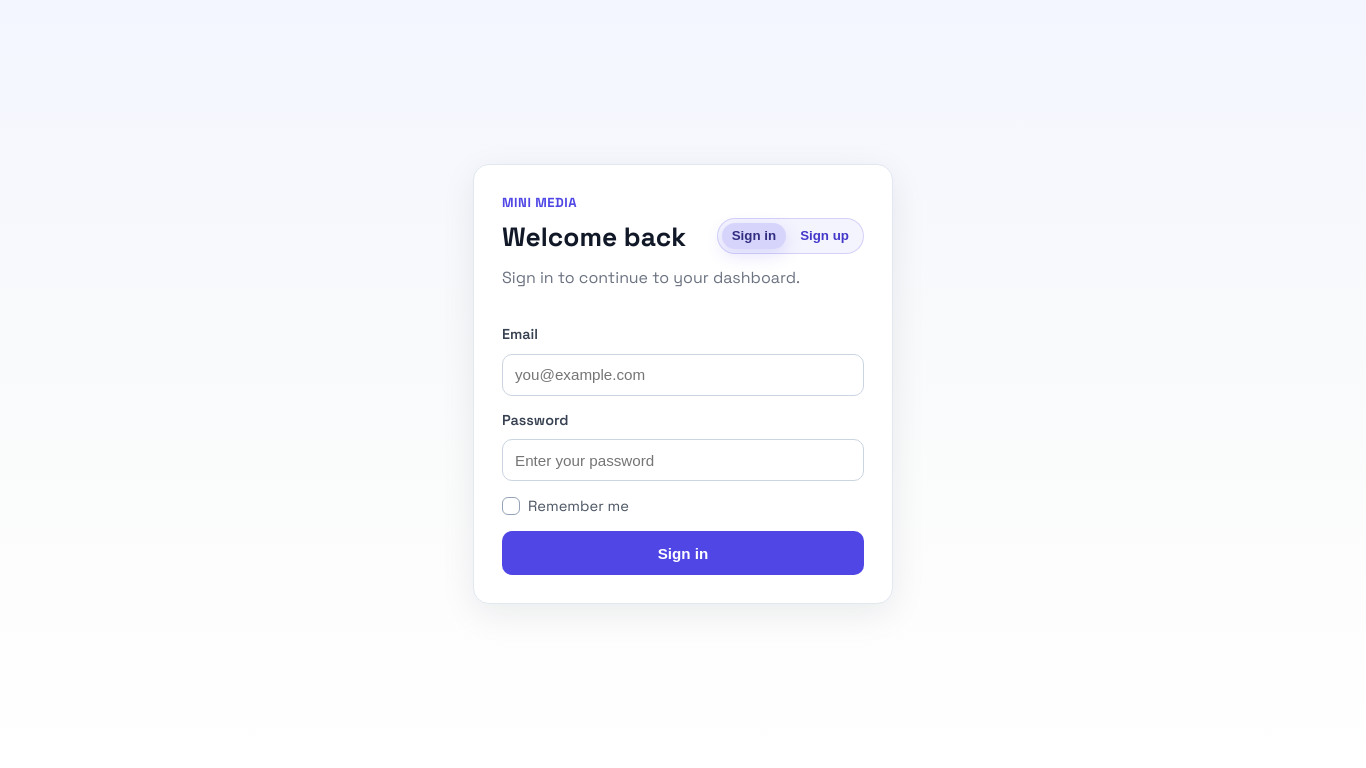
Test: App › registers and displays the returned user
This screenshot has width=1366, height=768.
Click the button "Sign up". click: (825,236)
box: [790,223,859,249]
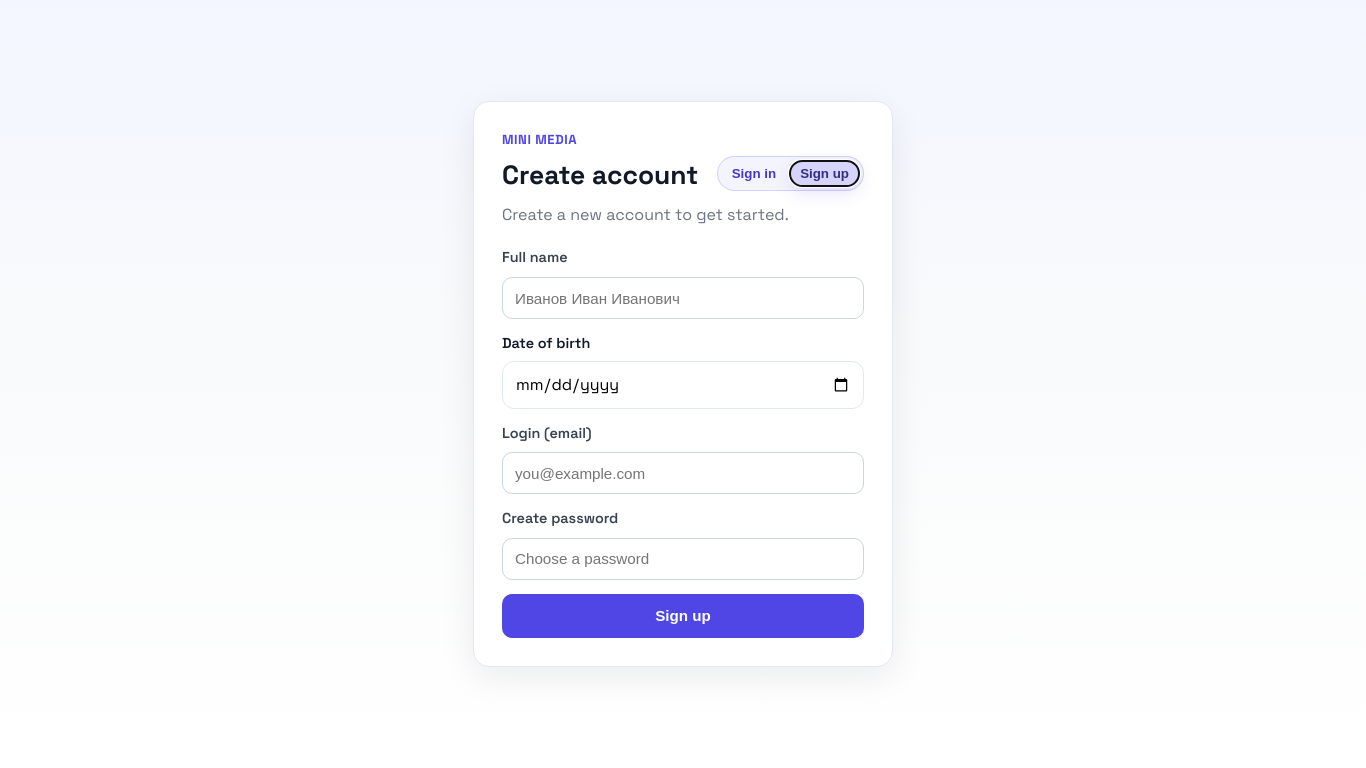
Type "Ivanov Ivan" into the field labelled "Full name". click: (683,298)
box: [502,277,864,319]
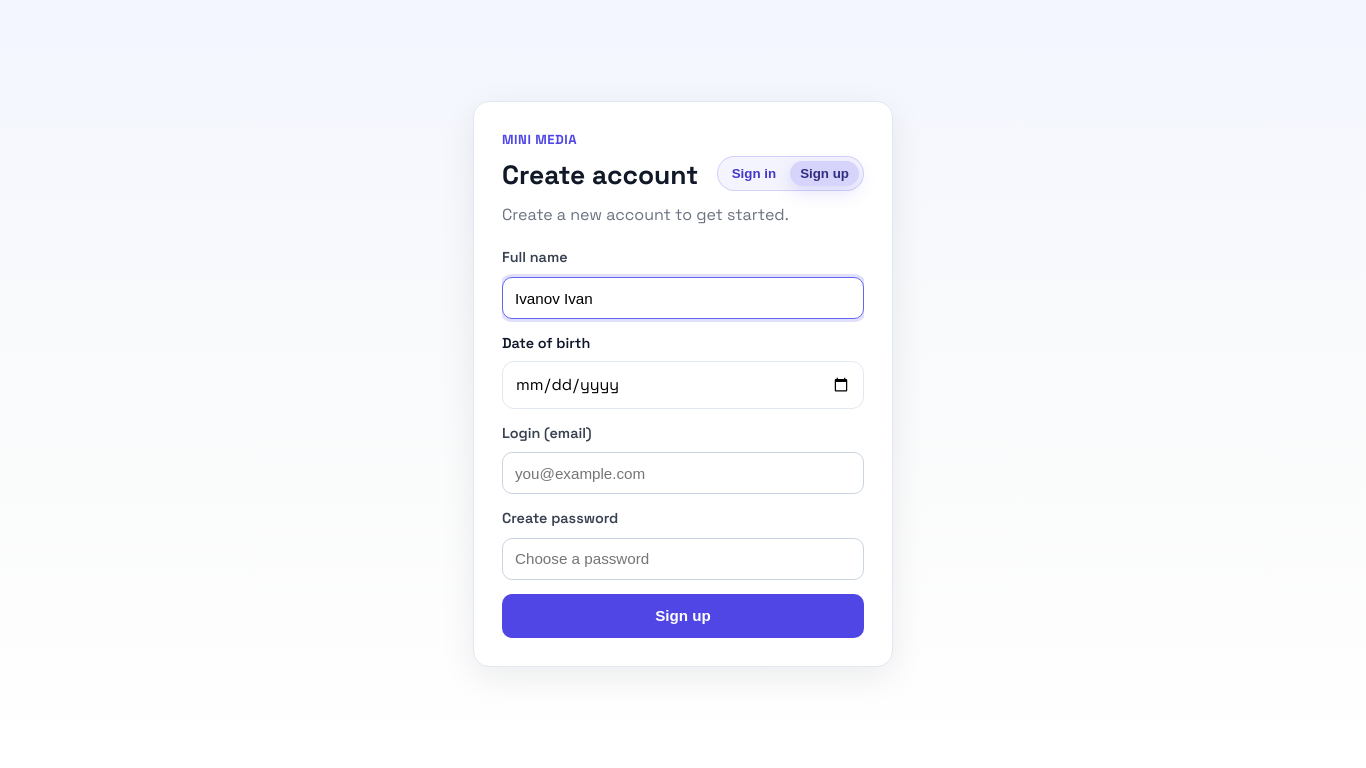
Type "2000-01-01" into the date field labelled "Date of birth". click: (683,385)
box: [502,361,864,409]
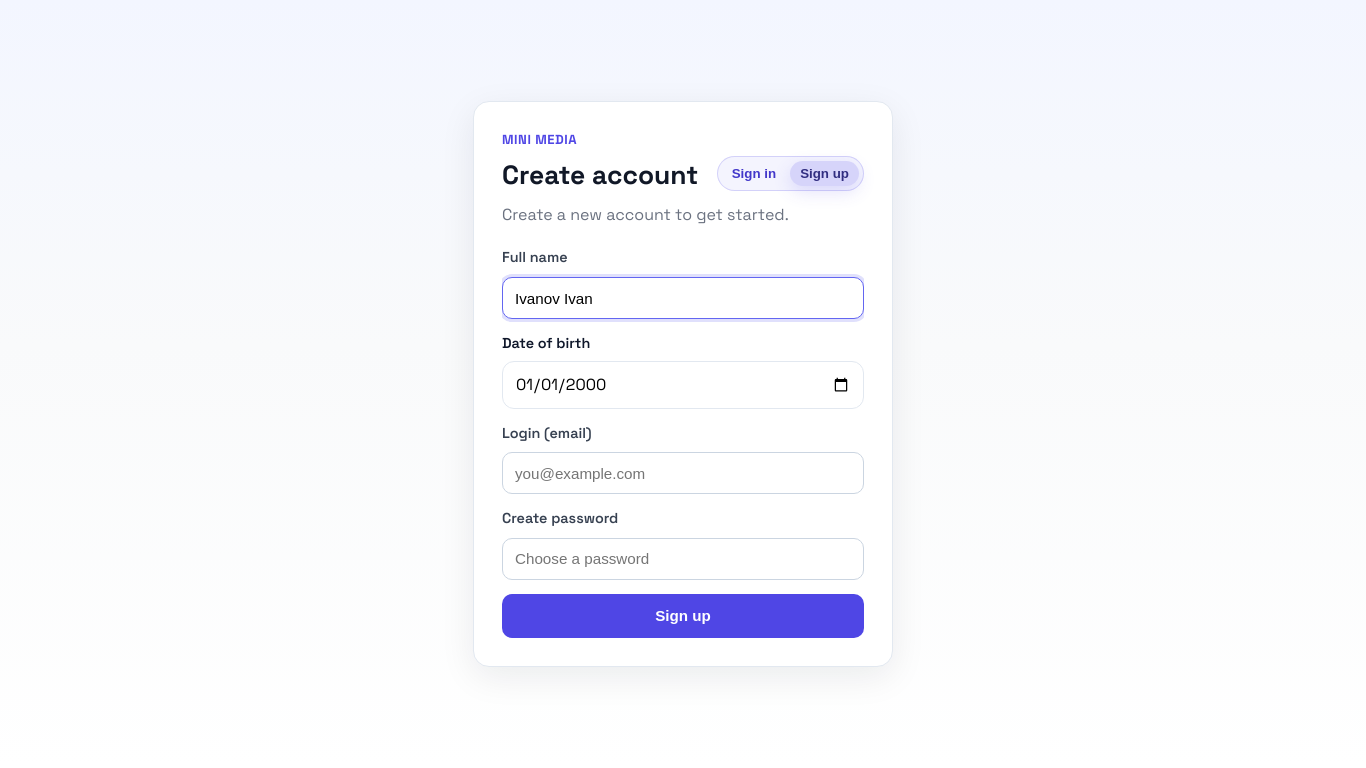
Type "test@example.com" into the field labelled "Login (email)". click: (683,473)
box: [502,452,864,494]
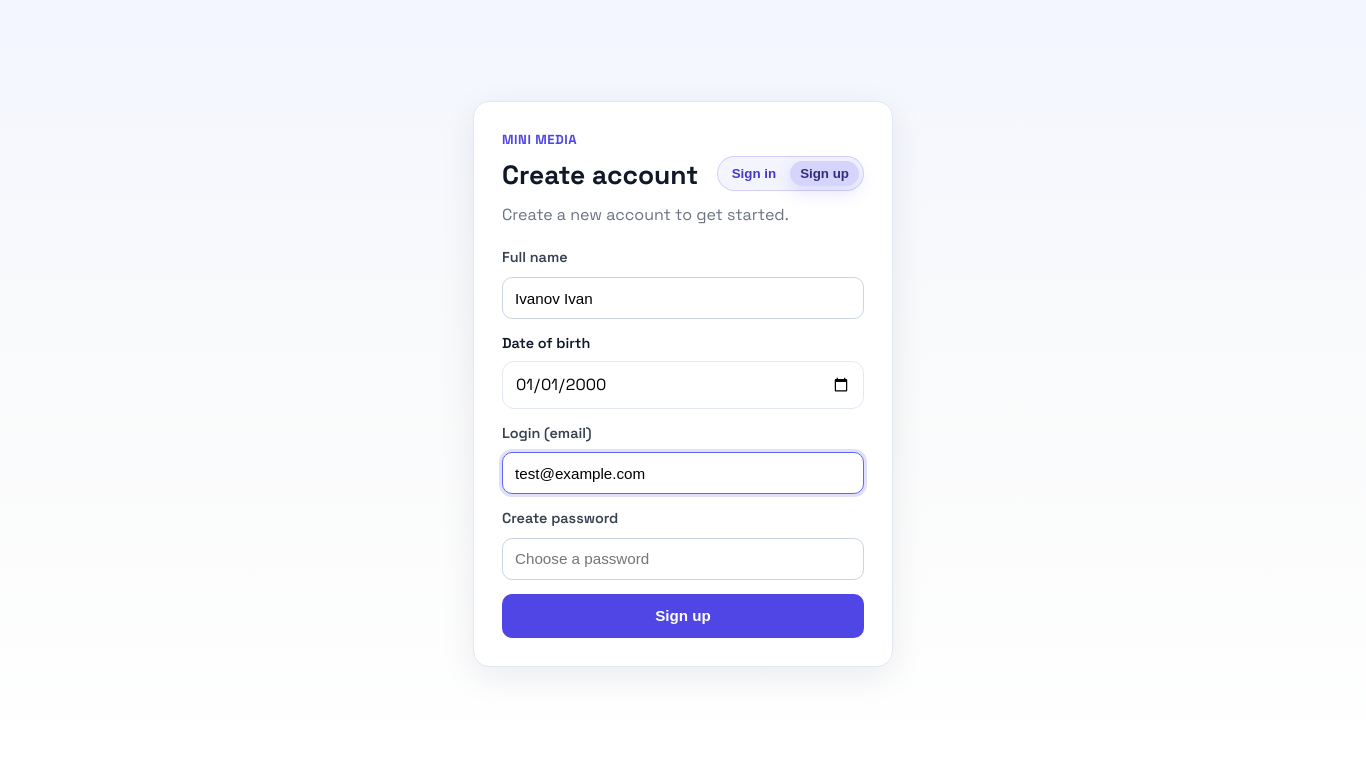
Type "secret123" into the password field labelled "Create password". click: (683,559)
box: [502,538,864,580]
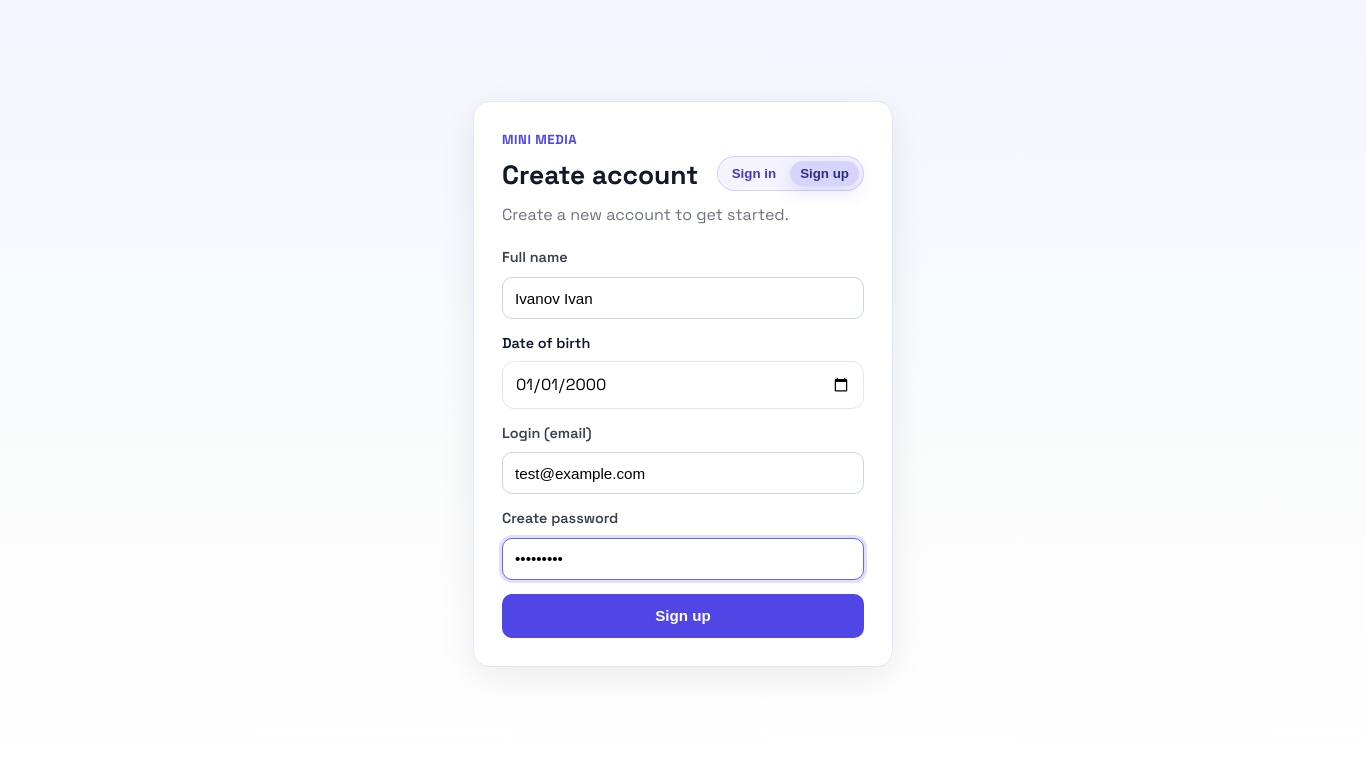
Click the button "Sign up" below "Create password". click: (683,616)
box: [502,594,864,638]
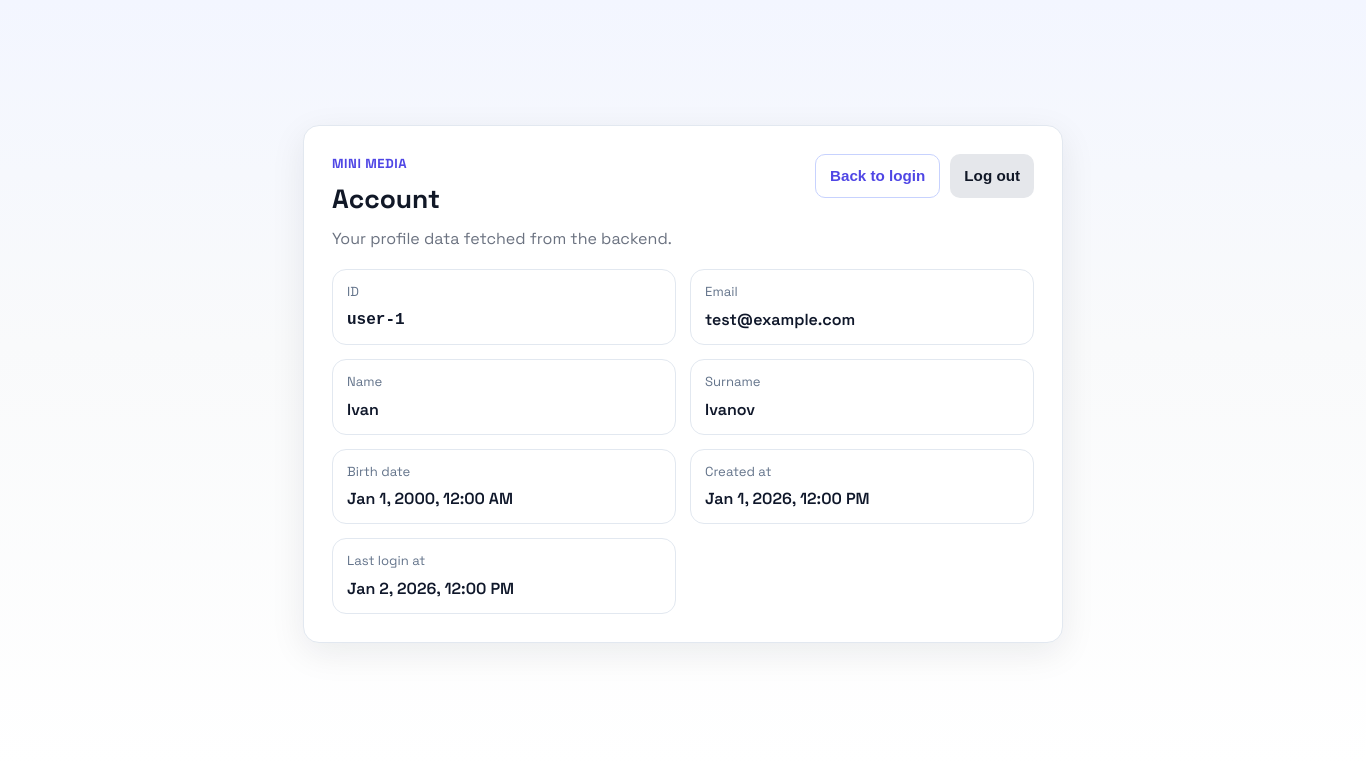
Check: the heading "Account" is shown, box [332,182,440,216]
Check: the text "test@example.com" is shown, box [705,309,855,330]
